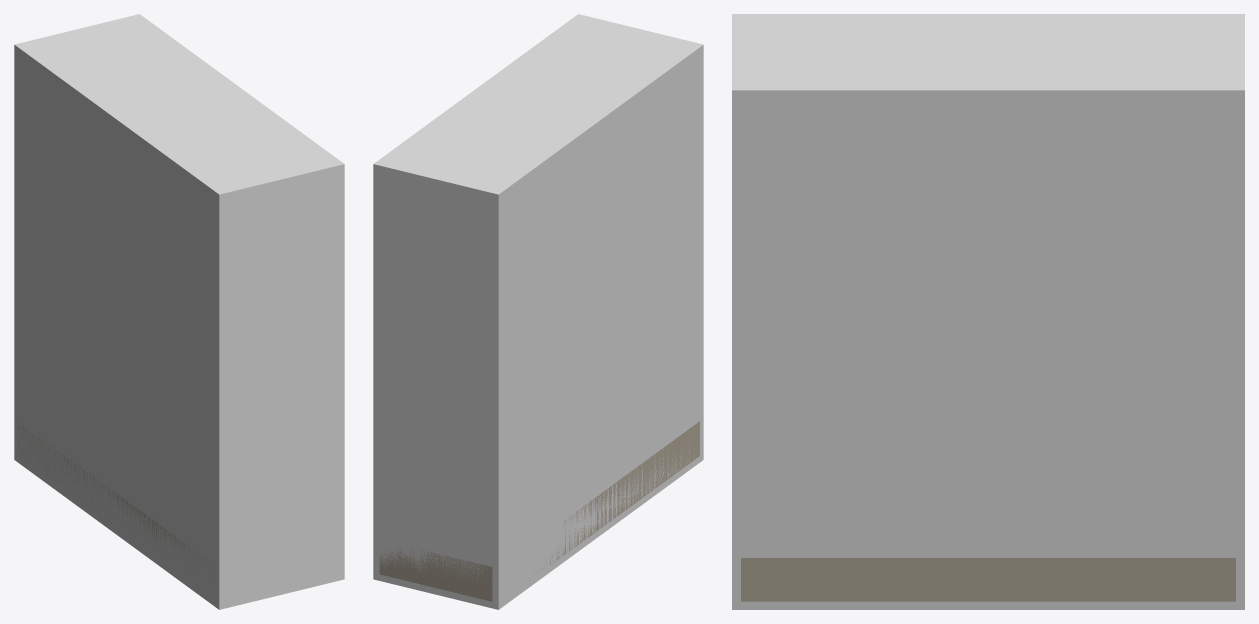
The picture shows the model from 3 angles, left to right: view 1: azimuth 30°, elevation 25°; view 2: azimuth 150°, elevation 25°; view 3: azimuth 270°, elevation 25°; orthographic projection. The views are drawn at different scales.
Parts seen in each view (by area): view 1: col_plaque, T09_body; view 2: col_plaque, T09_body; view 3: col_plaque, T09_body.
Boxes of the visible parts, bbox=[...] form: col_plaque: bbox=[14, 14, 344, 609]; T09_body: bbox=[18, 422, 212, 567]; col_plaque: bbox=[373, 14, 703, 609]; T09_body: bbox=[379, 421, 699, 601]; col_plaque: bbox=[732, 14, 1244, 609]; T09_body: bbox=[741, 558, 1235, 601].
Size of the model in its own units: 0.6 by 1.9 by 1.7.
